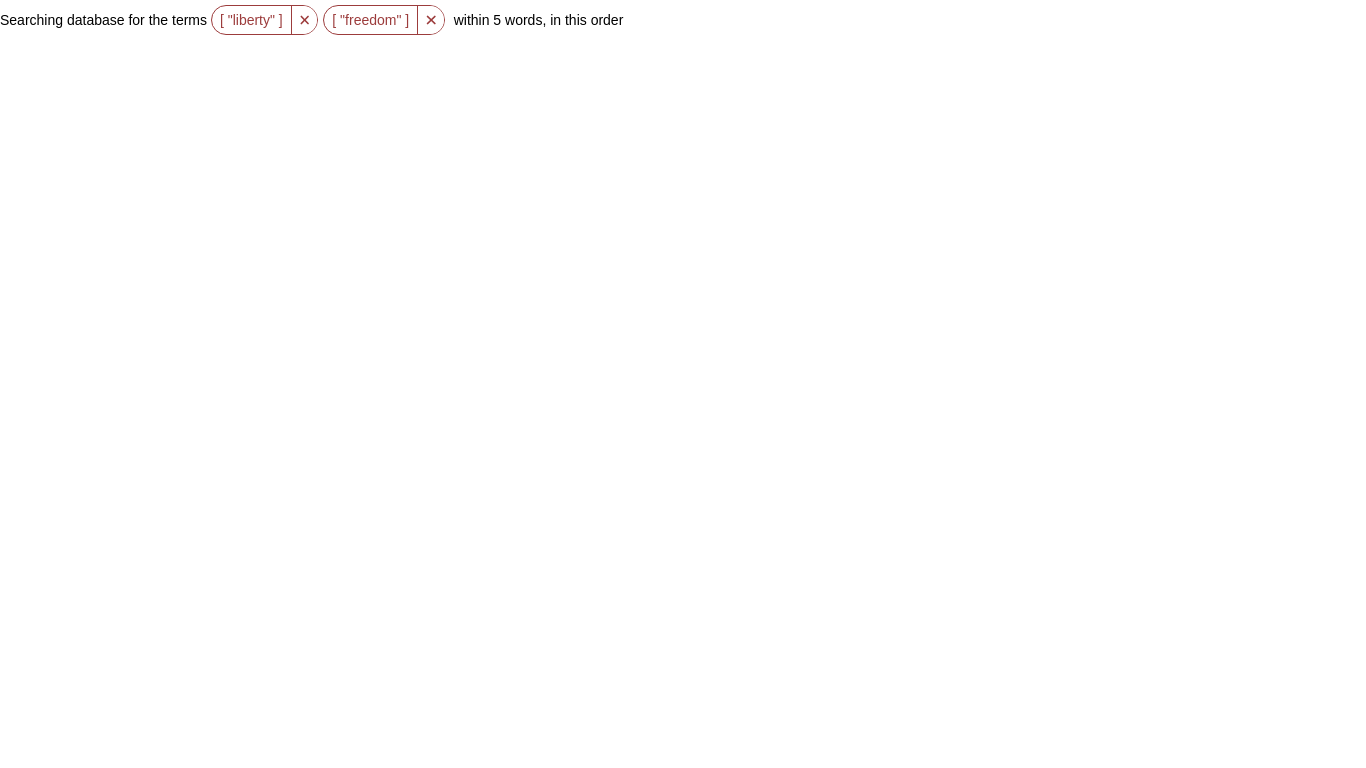
Test case: SearchArguments › opens term expansion dialog on term group click
Click the button with class "term-group-word" showing "[ \"liberty\" ]" at [252, 20], box [212,6,292,34]
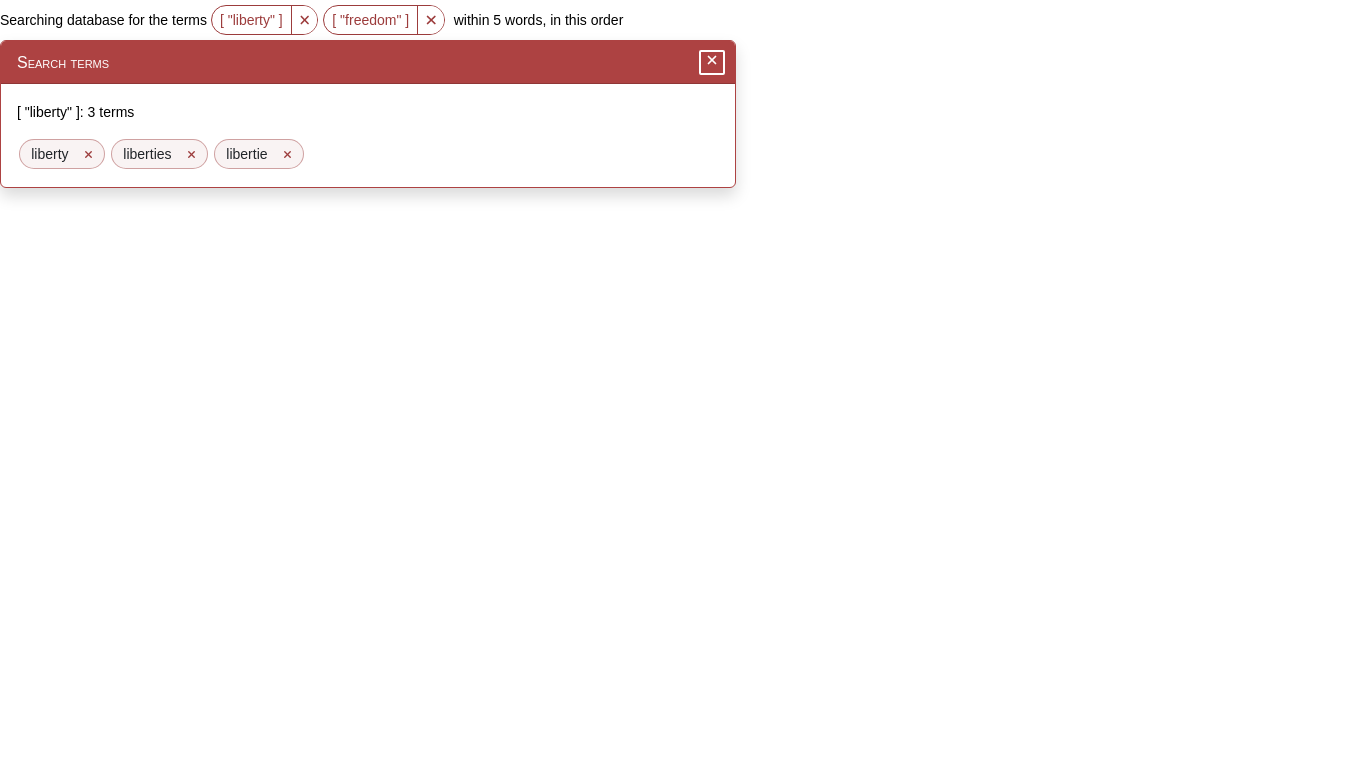
expect the dialog is shown: met, box [0,40,736,188]
